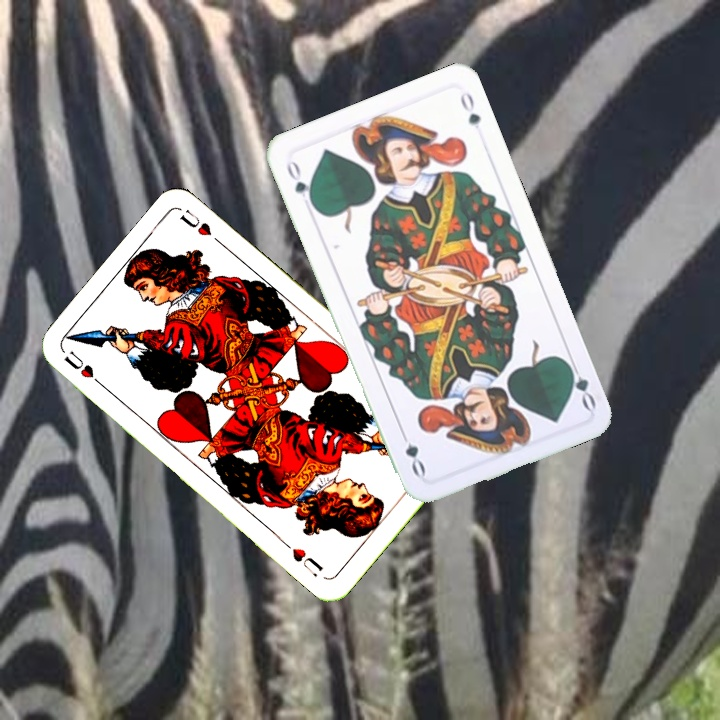GO: (561, 355, 599, 413), (282, 156, 317, 210)
HU: (60, 346, 108, 391)
